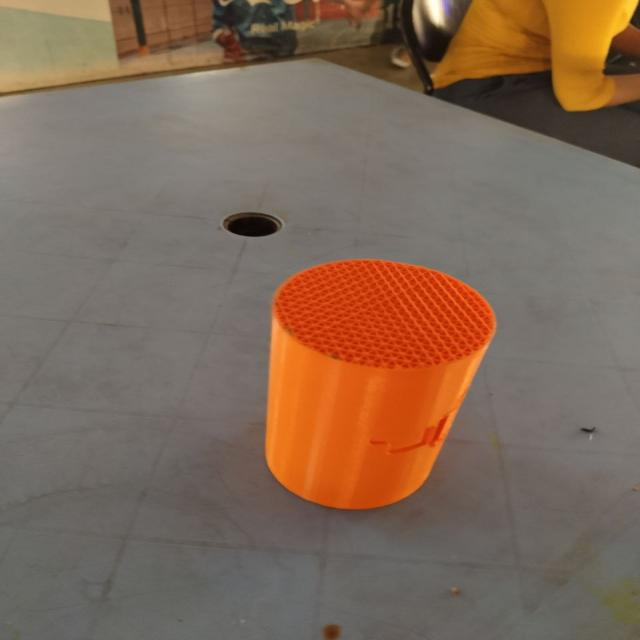Cylinder: (263, 258, 497, 510)
